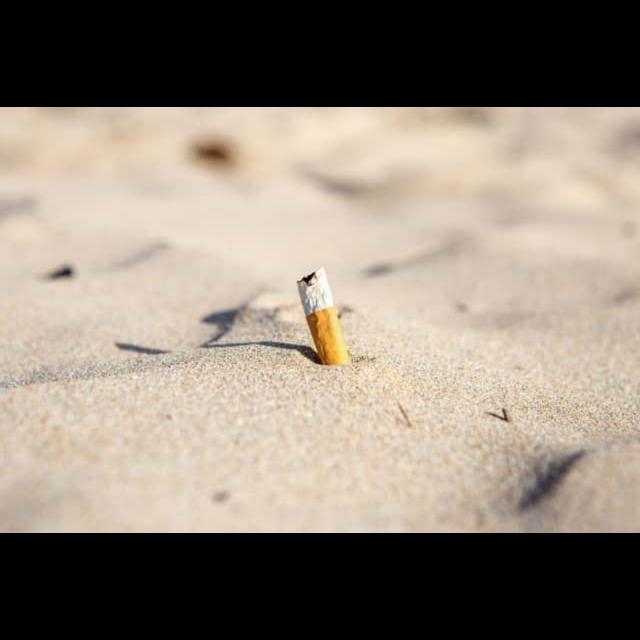cigarette: (296, 267, 350, 365)
